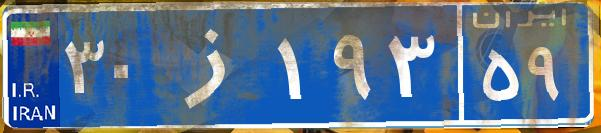0: (110, 28, 158, 105)
1: (273, 28, 330, 110)
3: (385, 28, 445, 110), (57, 26, 110, 107)
5: (475, 38, 525, 113)
9: (330, 28, 385, 110), (525, 38, 570, 115)
ز: (158, 15, 273, 115)
